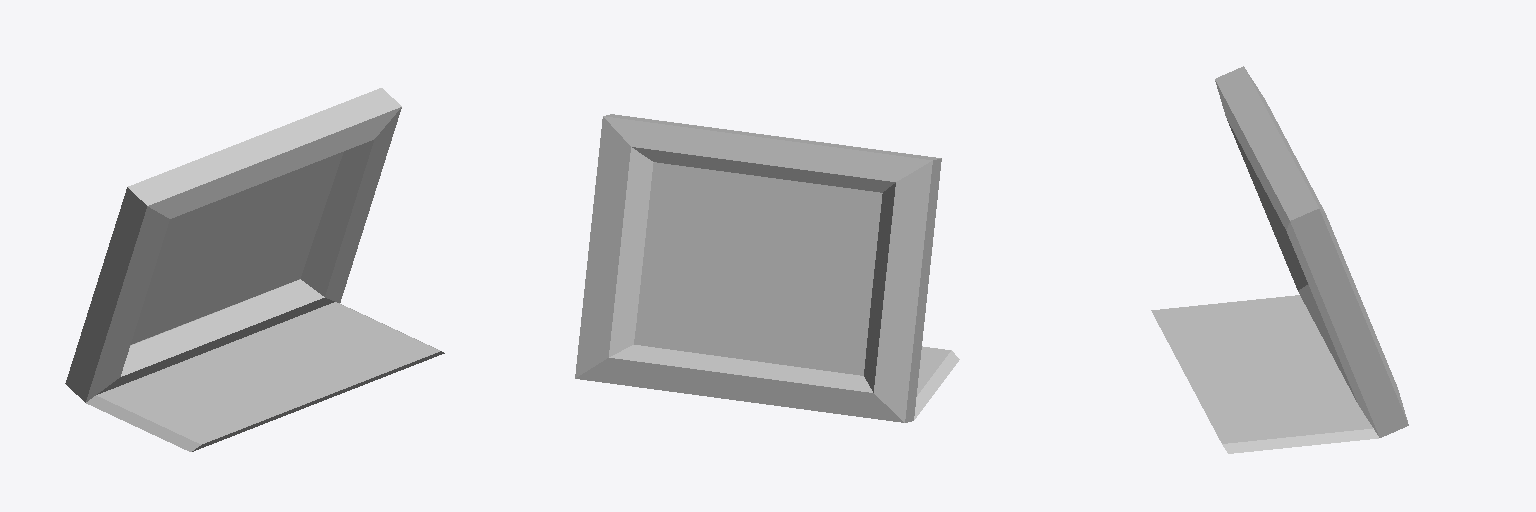
Rendered from picture_frame.obj.
3 views of the same model, side by side, from view 1: azimuth 30°, elevation 25°; view 2: azimuth 150°, elevation 25°; view 3: azimuth 270°, elevation 25° (orthographic).
Parts seen in each view (by area): view 1: pTorus2; view 2: pTorus2; view 3: pTorus2.
Boxes of the visible parts, <box> form: pTorus2: <box>65,88,444,451</box>; pTorus2: <box>575,114,959,422</box>; pTorus2: <box>1151,66,1408,453</box>.
Size of the model in its own units: 60.66 by 41.98 by 41.37.